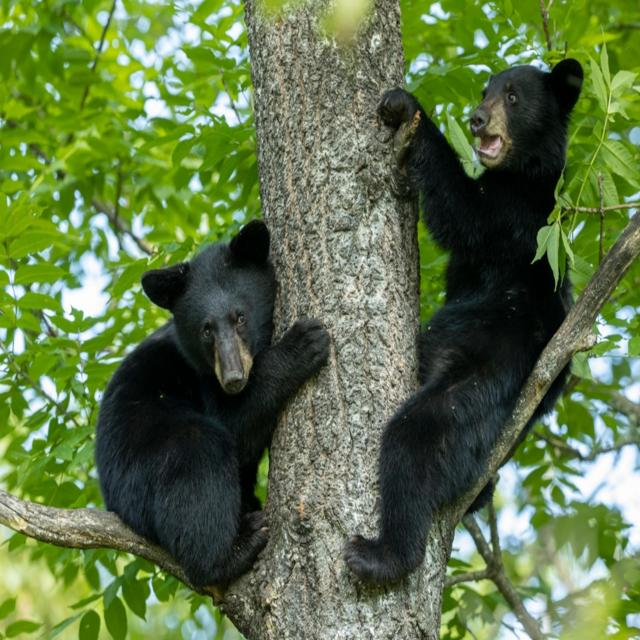Bear: (344, 60, 585, 640), (93, 221, 331, 597)
